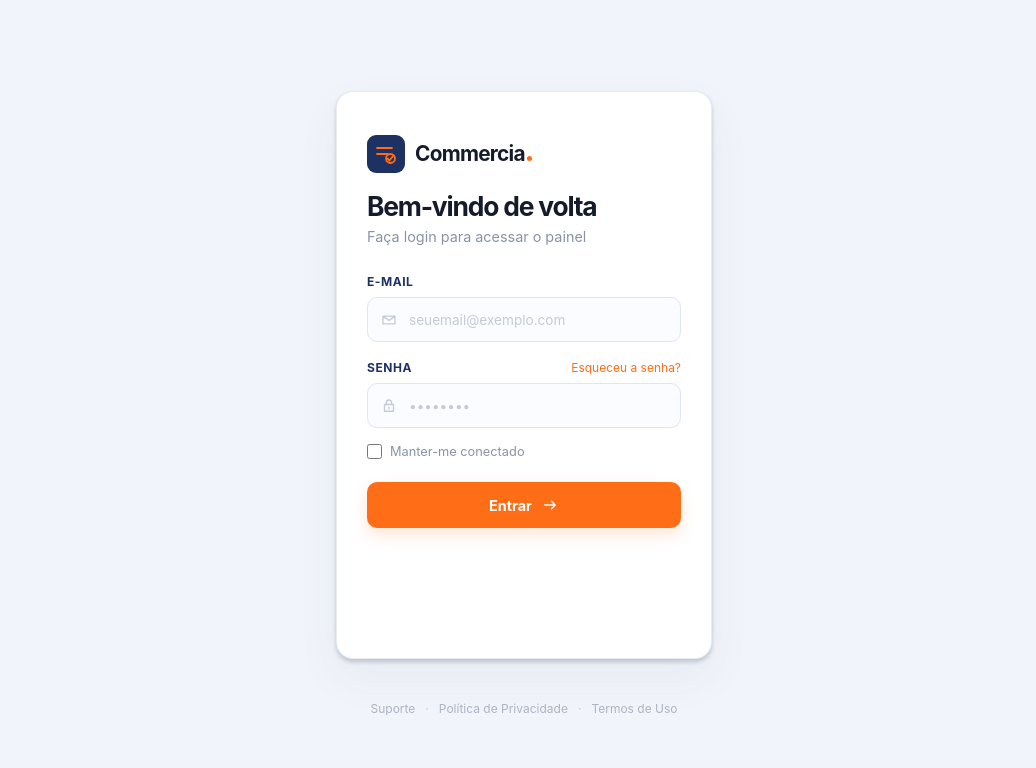
Test: shows unavailable dashboard routes without fake metrics and permits retry
Step 1. Type "admin" into the field labelled "E-mail" → (524, 320), box [367,297,681,342]
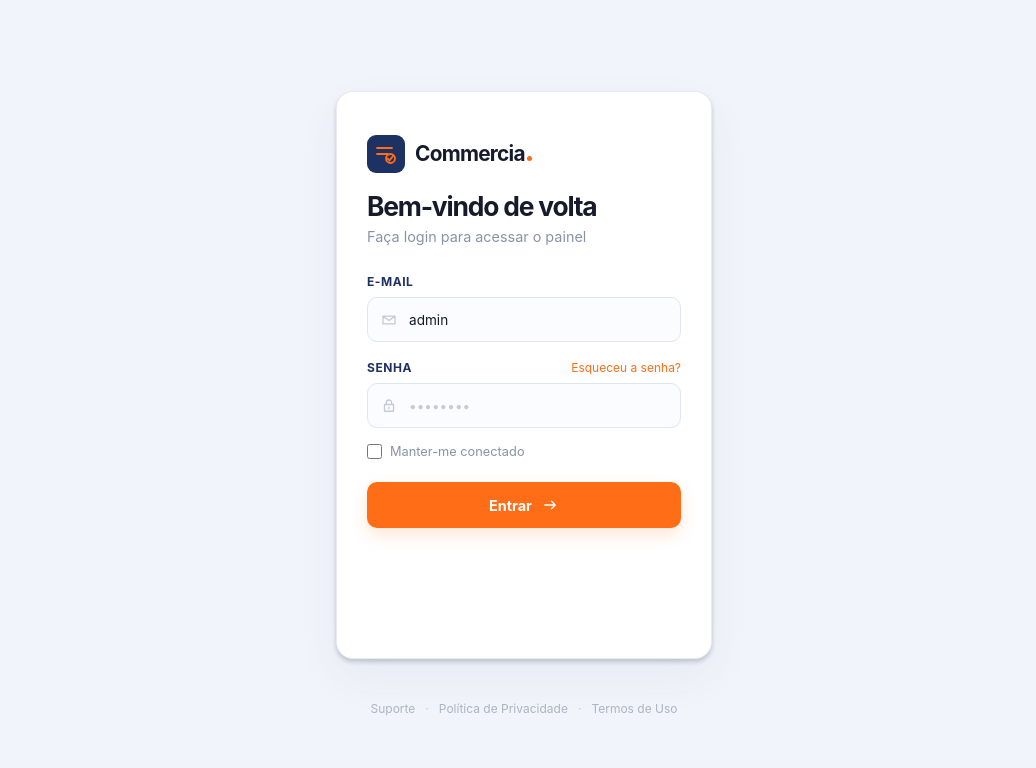
Step 2. Type "secret" into the password field labelled "Senha" → (524, 406), box [367,383,681,428]
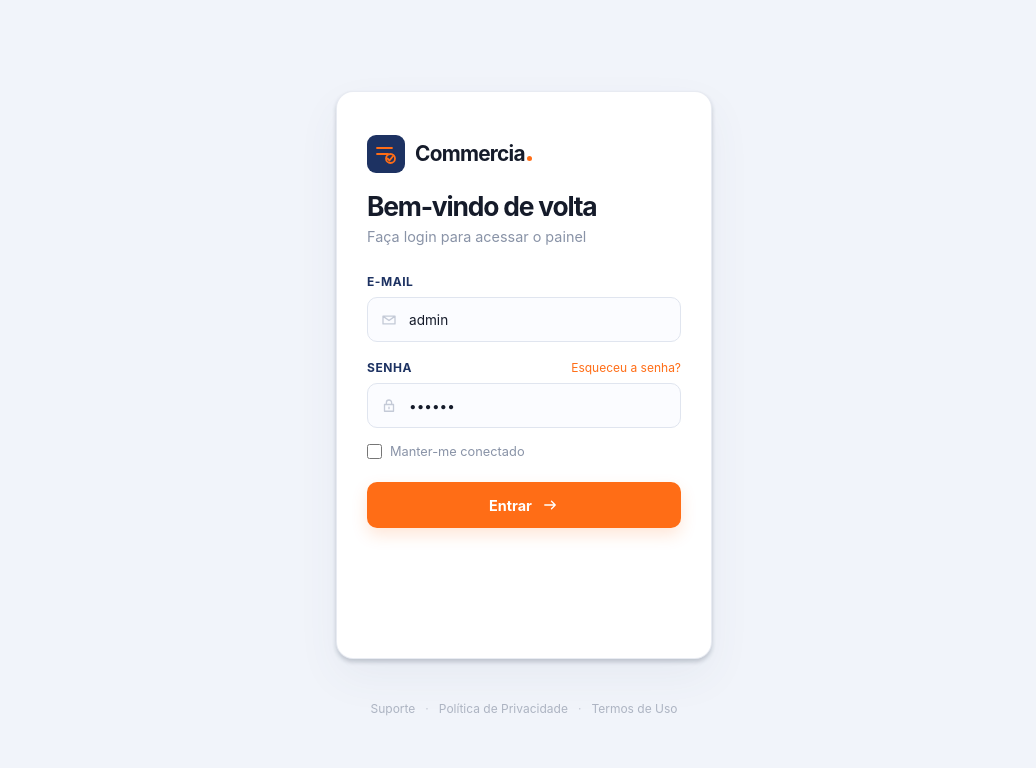
Step 3. Submit the form "E-mail Senha Esqueceu a senha? Manter-me conectado Entrar", box [367,274,681,528]
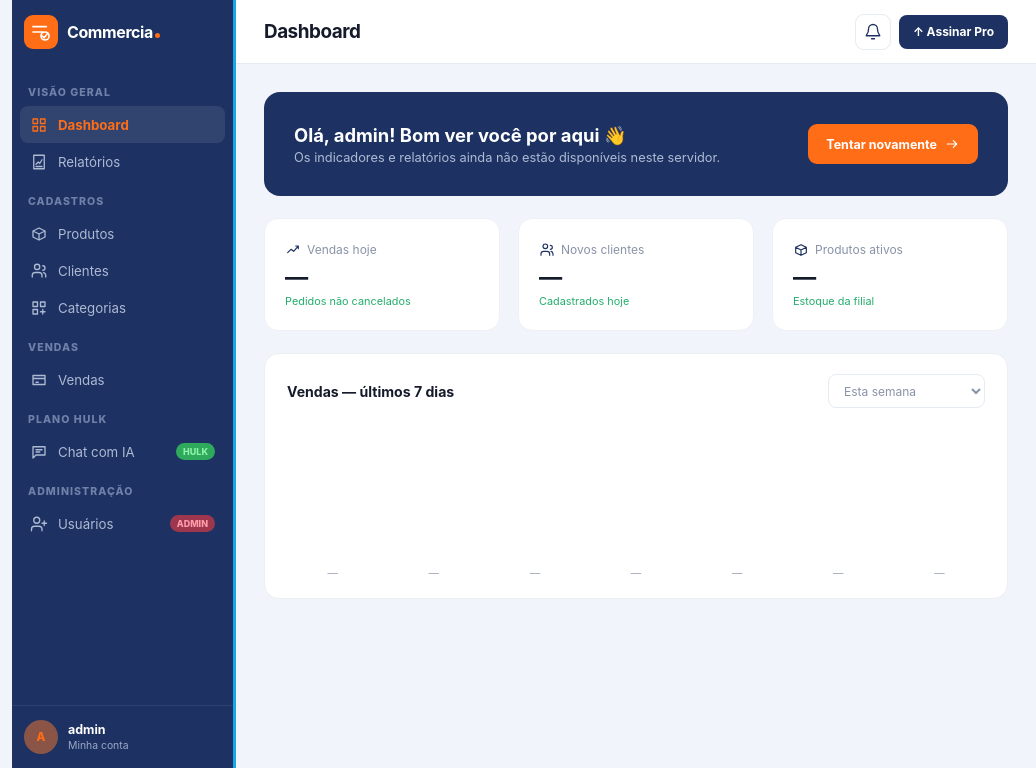
Check: the heading "Dashboard" is shown, box [264,20,360,43]
Check: the message shows "ainda não estão disponíveis", box [294,150,720,164]
Step 4. Click the button "Tentar novamente" → click(893, 144), box [808,124,978,164]
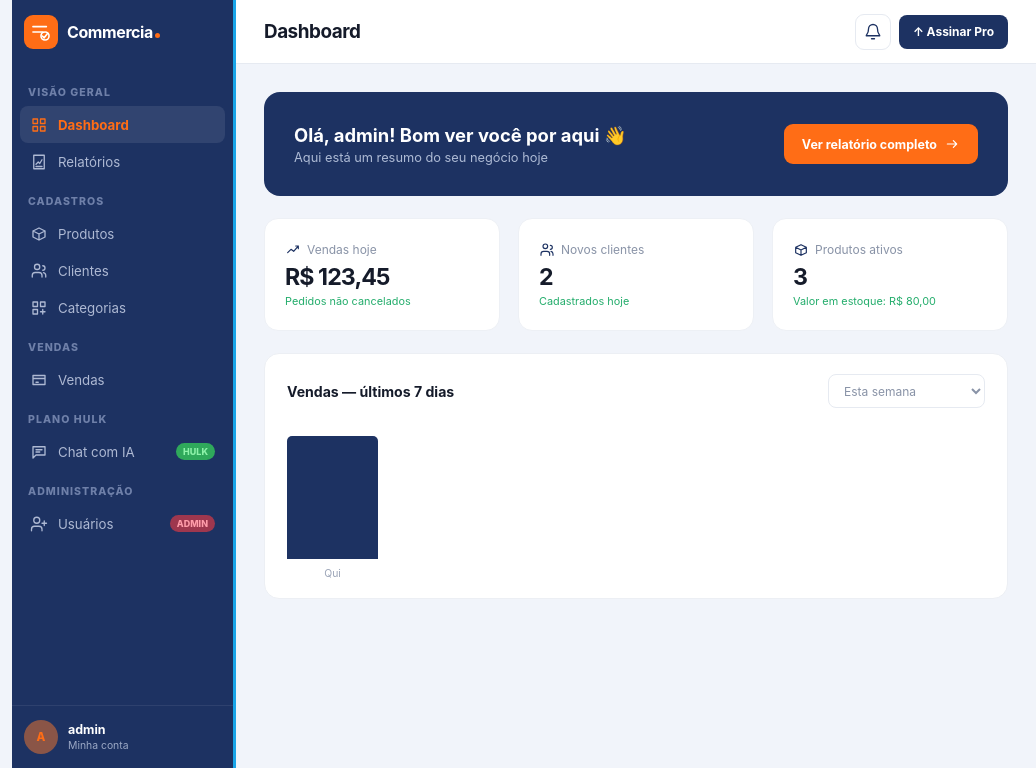
Check: the text "R$ 123,45" is shown, box [285,262,390,290]
